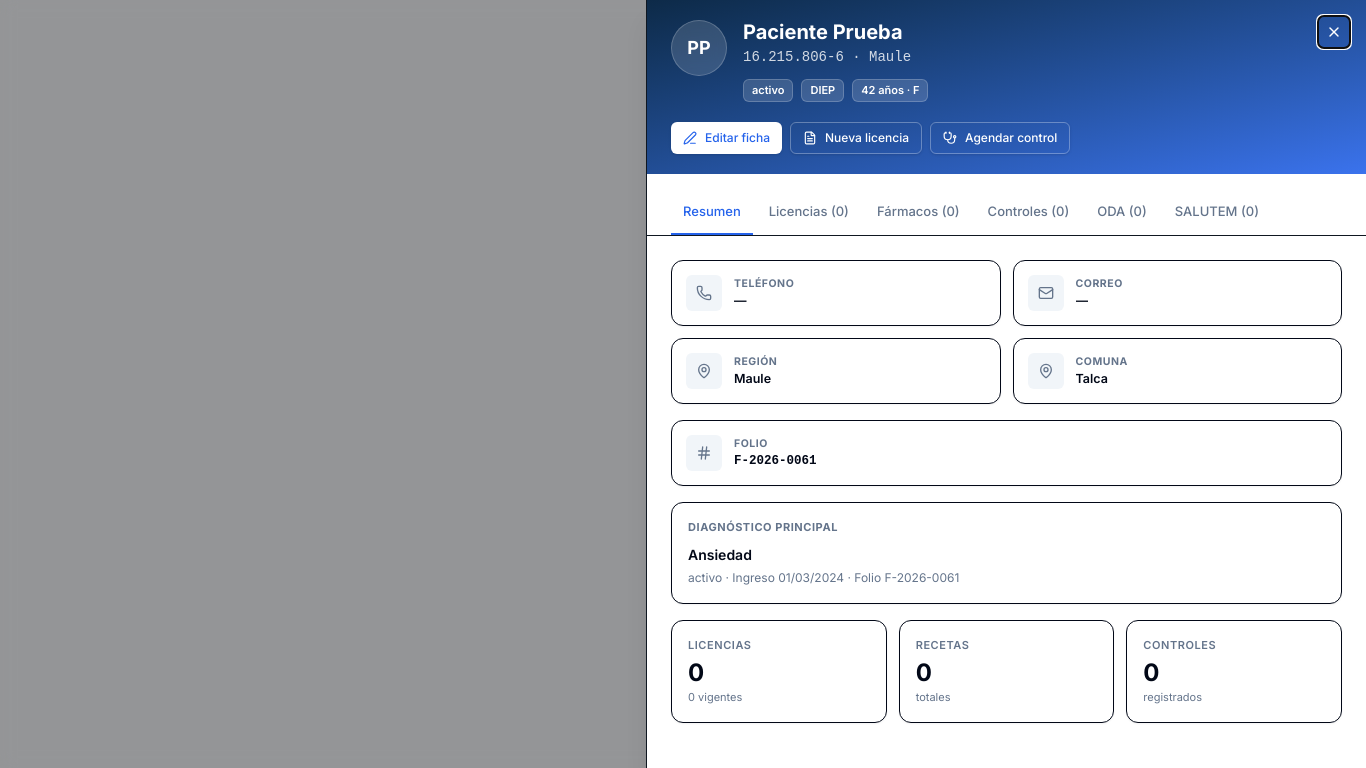
PatientSheet — licencias detectadas en SALUTEM › al registrar la licencia sugerida, el contador de la pestaña Licencias se actualiza
Expected: the heading "Paciente Prueba" is shown, [743,20,902,44]
Click the tab "SALUTEM (0)" at (1217, 212), box [1163,190,1271,235]
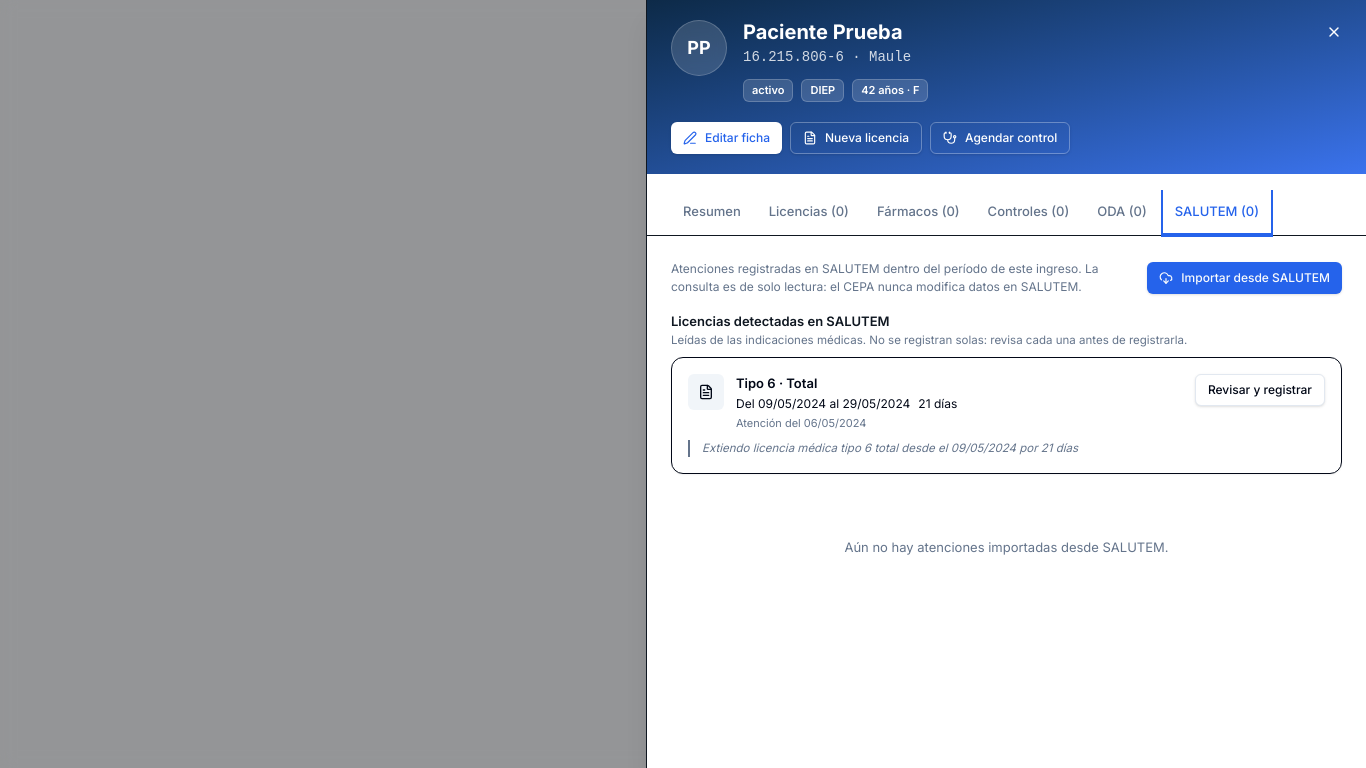
Expected: the tab "Licencias (0)" is shown, [757,190,861,235]
Click the button "Revisar y registrar" at (1260, 390), box [1195,374,1325,406]
(page scrolled)
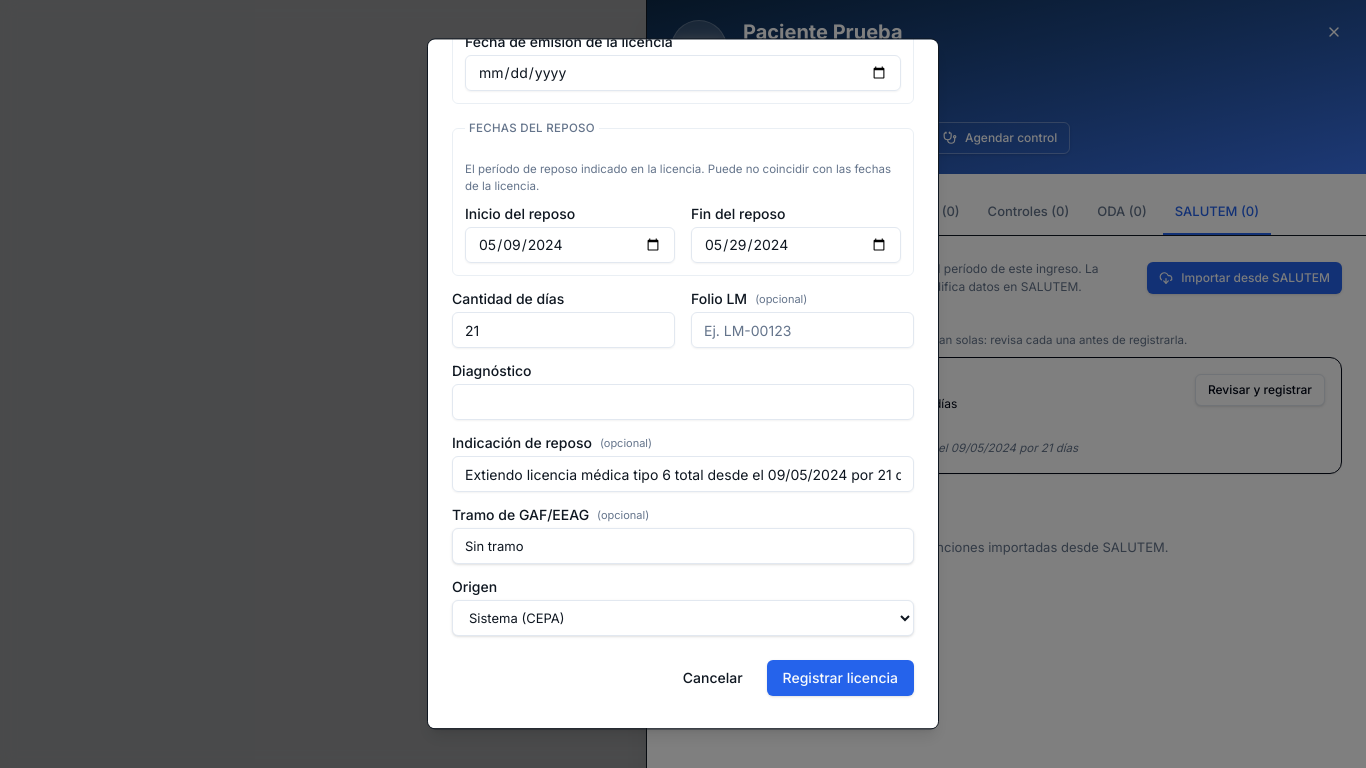
Type "Trastorno adaptativo" into the field labelled "Diagnóstico" at (683, 403), box [452,385,914,421]
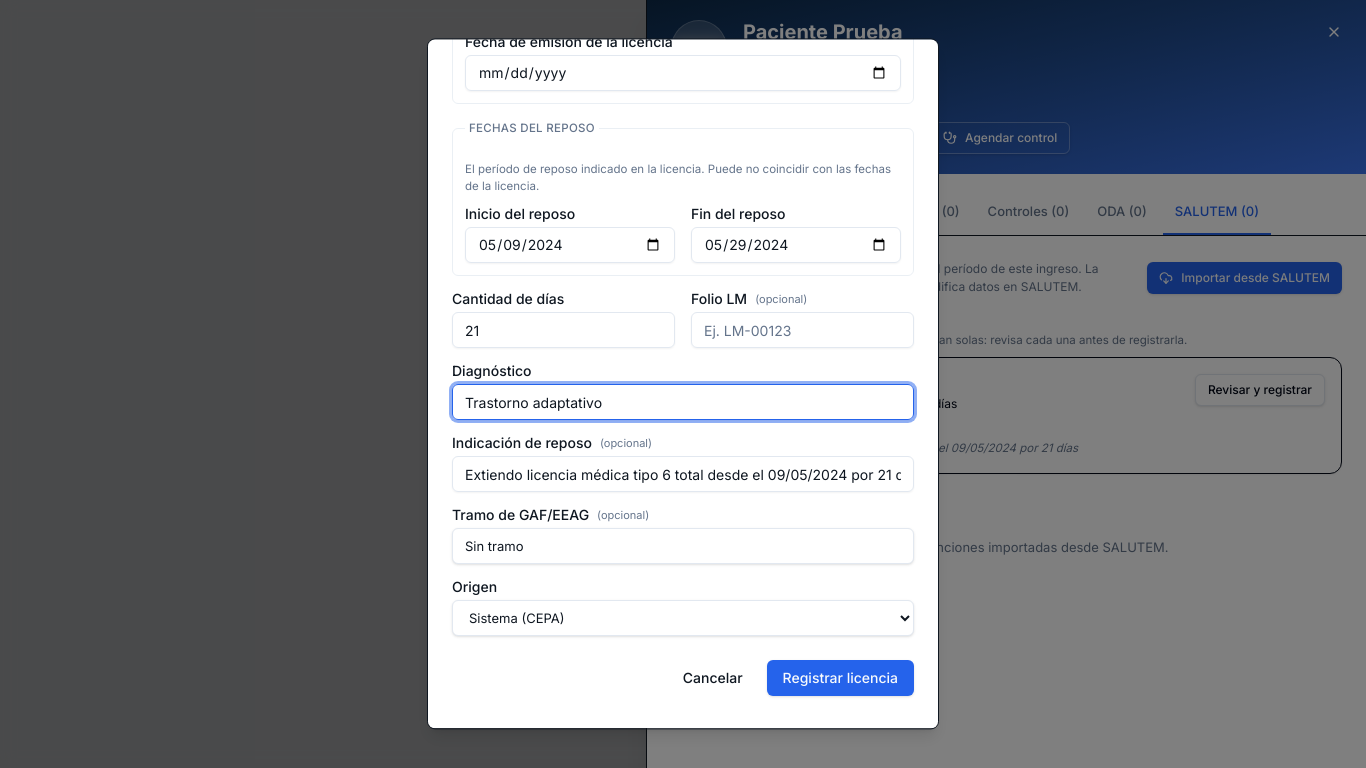
Type "2024-05-06" into the date field labelled "Fecha de emisión de la licencia" at (683, 73), box [465,55,901,91]
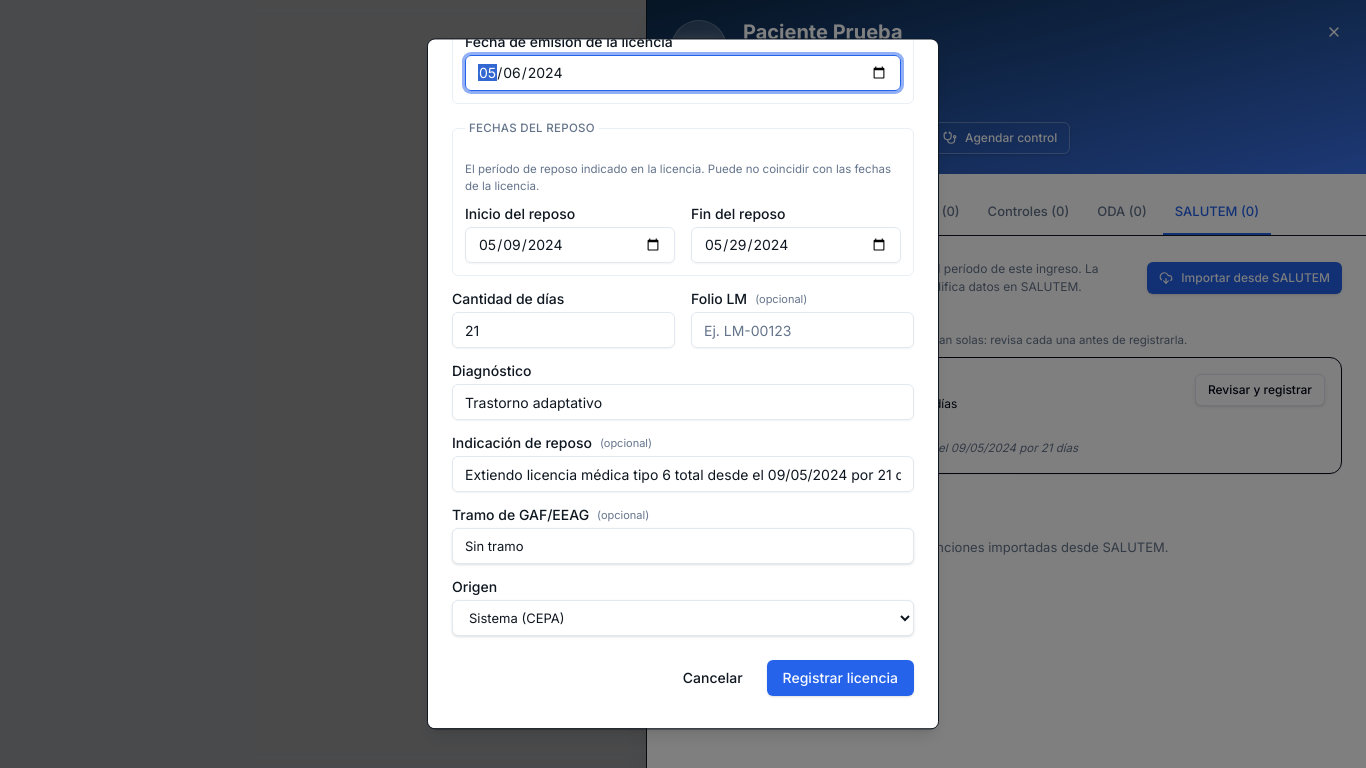
Click the button "Registrar licencia" at (840, 679), box [767,661,914,697]
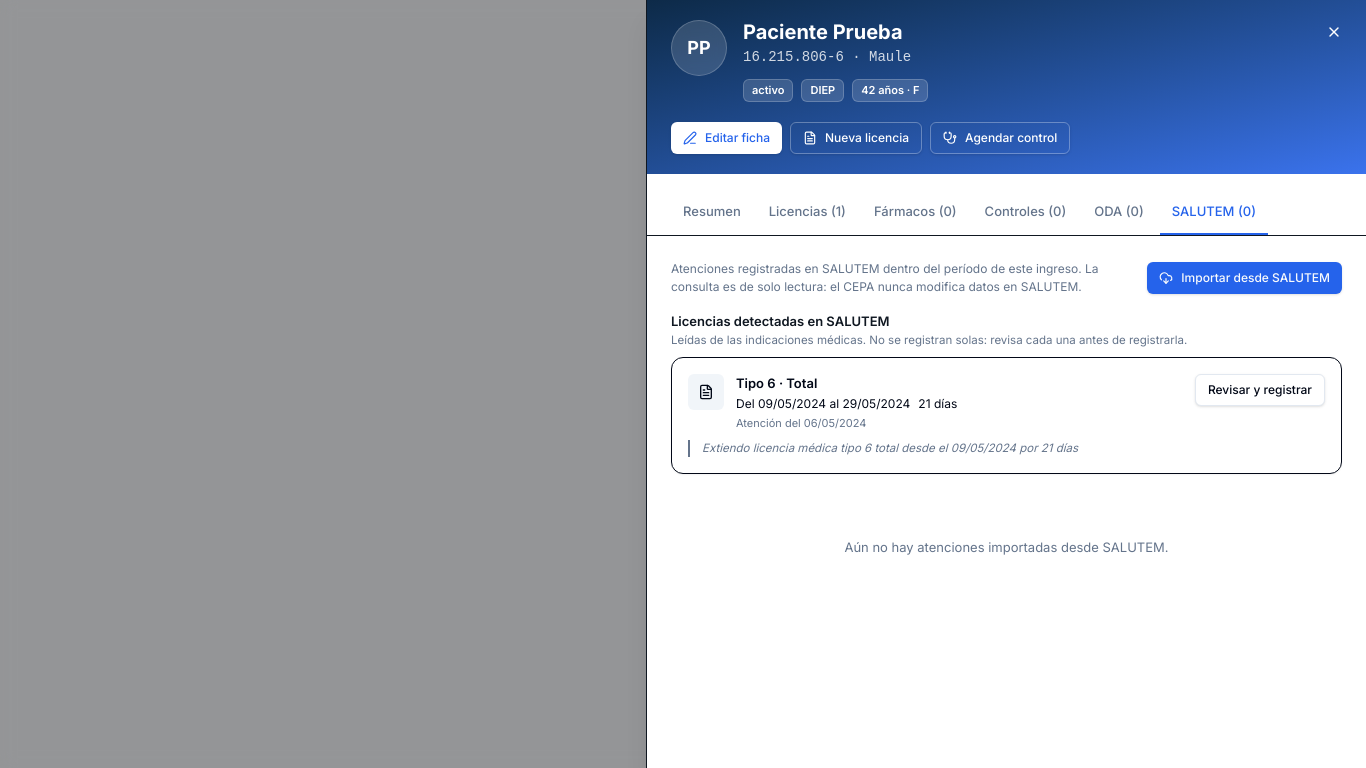
Expected: the tab "Licencias (1)" is shown, [757,190,858,235]
